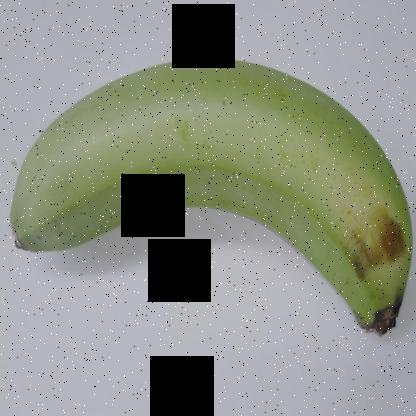freshunripe: (3, 46, 415, 348)
